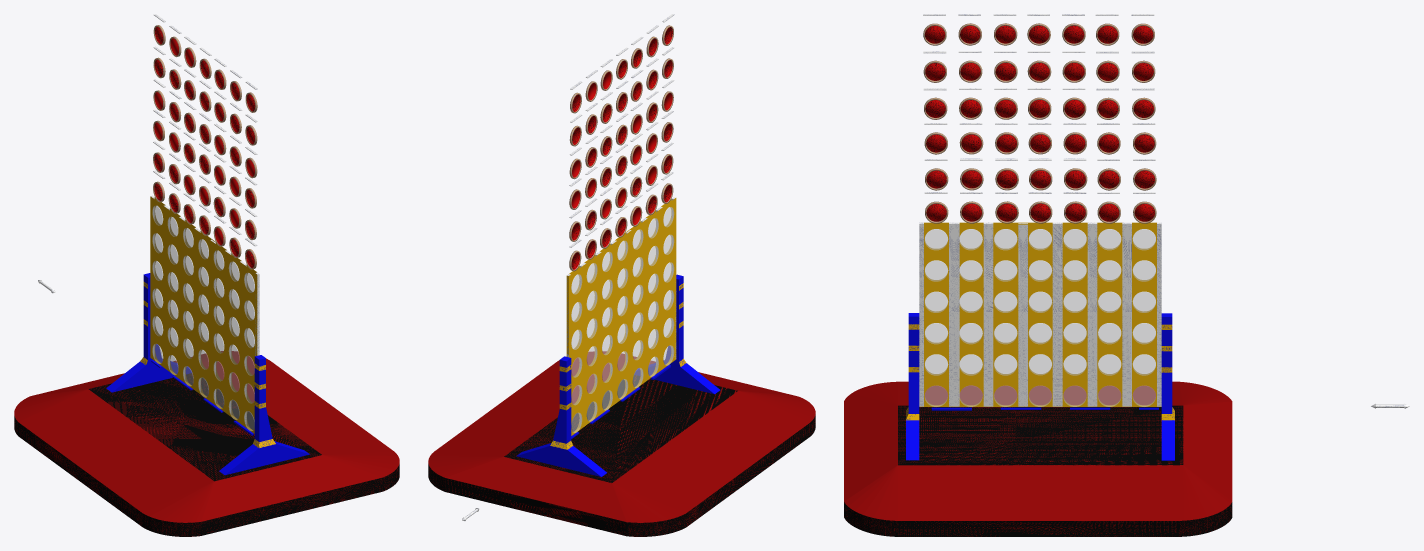
3 renders of one model, left to right at view 1: azimuth 30°, elevation 25°; view 2: azimuth 150°, elevation 25°; view 3: azimuth 270°, elevation 25°, orthographic. The views are drawn at different scales.
Parts seen in each view (by area): view 1: Component_12 (×3), SketchUp (×2), Component_6, Component_14; view 2: Component_12 (×3), SketchUp (×2), Component_14, Component_6; view 3: Component_12 (×3), SketchUp (×2), box (×6), staticmesh, Component_14, Component_6, Component_31.
Boxes of the visible parts, x1,y1,x2,y2 form: Component_12 (×3): (14,351,399,536); SketchUp (×2): (150,196,257,433); Component_6: (219,355,309,475); Component_14: (106,273,191,392); Component_12 (×3): (428,351,815,536); SketchUp (×2): (569,198,676,435); Component_14: (516,356,606,476); Component_6: (634,274,720,394); Component_12 (×3): (844,381,1232,536); SketchUp (×2): (924,222,1156,406); box (×6): (983,222,1161,406); staticmesh: (949,222,959,406); Component_14: (1161,313,1174,460); Component_6: (906,313,919,460); Component_31: (919,222,923,406).
Size of the model in its own units: 112 by 192 by 170.
